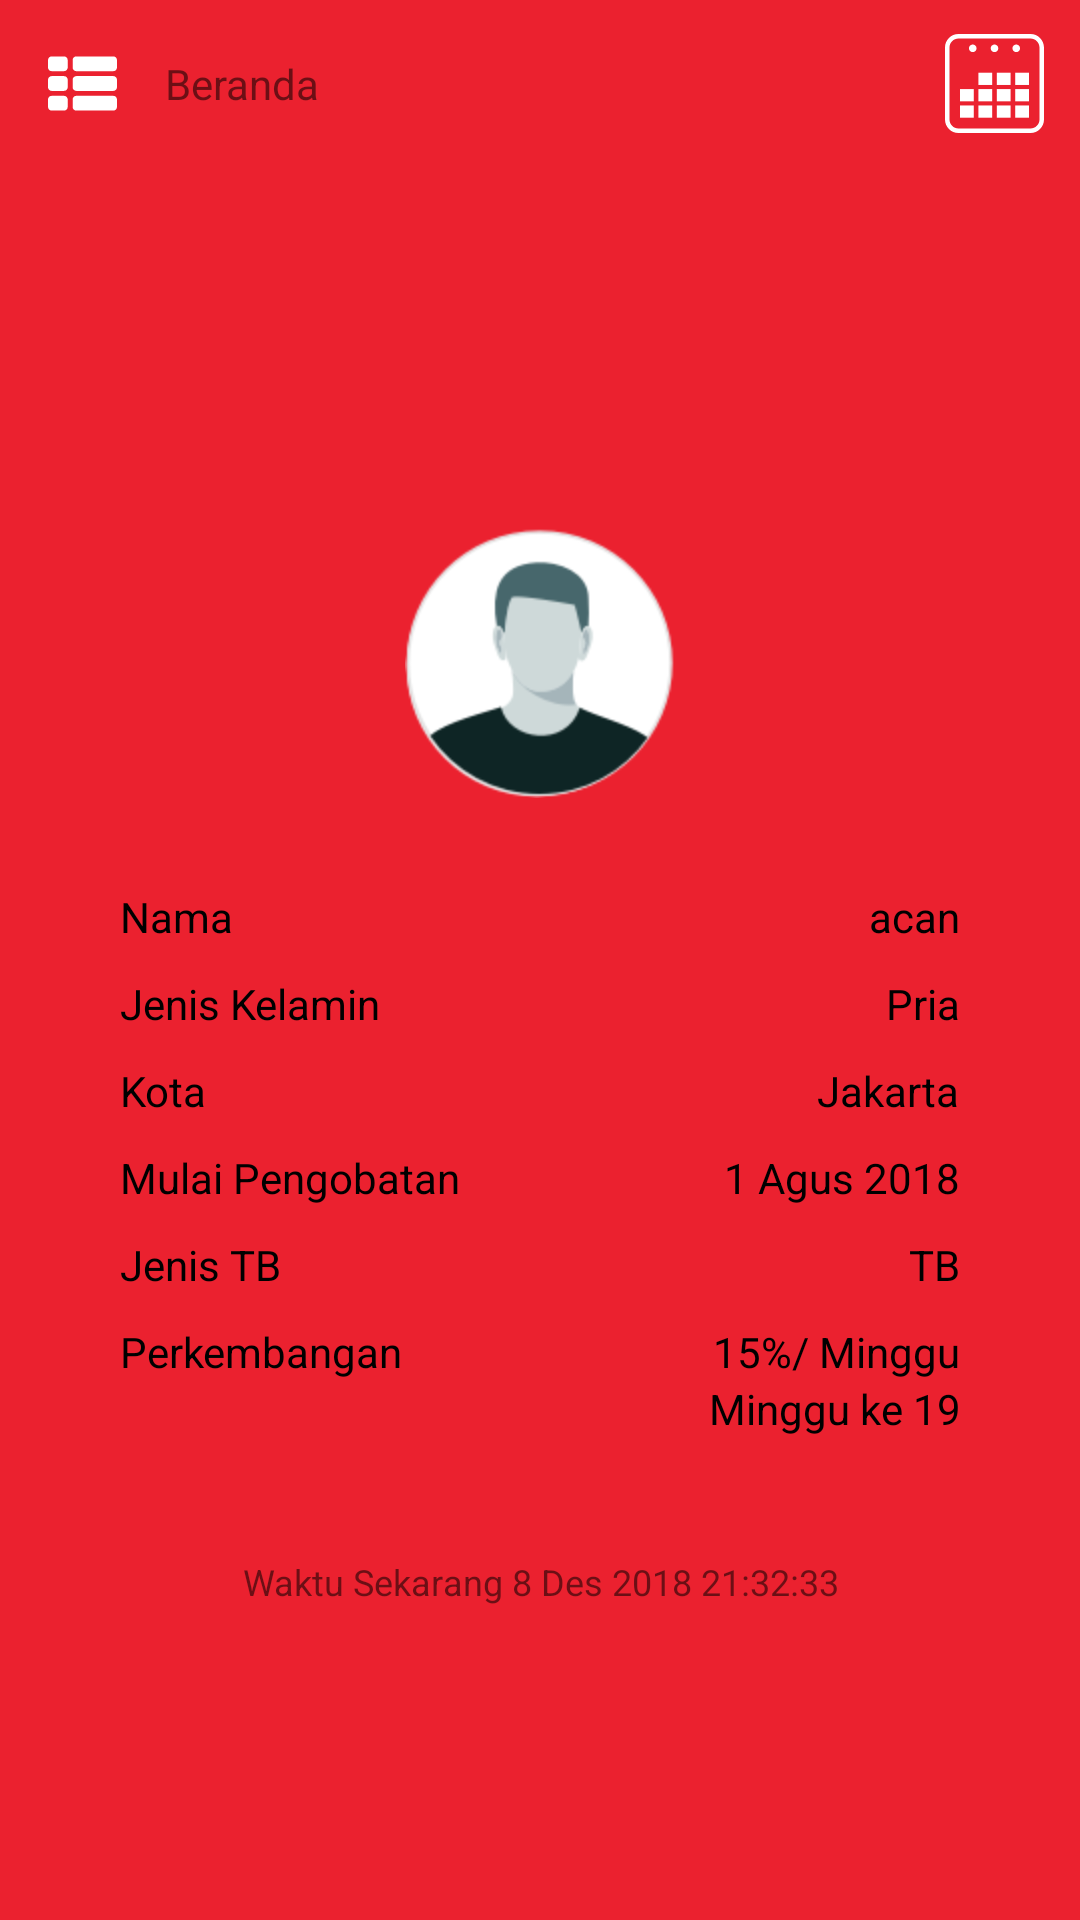

Screen size 1080*1920. Icon name, then its box in pixels as bbox=(x1, y1, x2, y2):
annual calendar: bbox=(945, 34, 1044, 133)
list: bbox=(48, 56, 117, 111)
